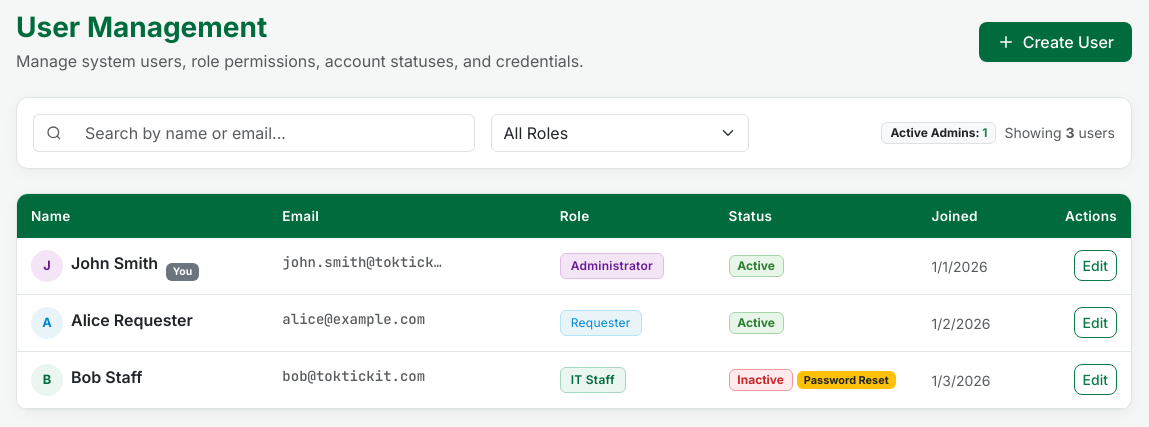
it: UserManagement Component Tests (UI-06, AC-13..16, FR-17..20) › preserves authoritative active admin count when table search or role filters are applied
Expected: the table with test id "users-table" is shown, x1=17 y1=194 x2=1131 y2=409
Expected: the element with test id "active-admins-count-badge" reads "Active Admins: 1", x1=881 y1=122 x2=996 y2=144
# Apply search for Alice (which contains 0 administrators)
Type "Alice" into the field with test id "search-users-input".
click(274, 133); type("Alice")  # box x1=73 y1=114 x2=474 y2=152
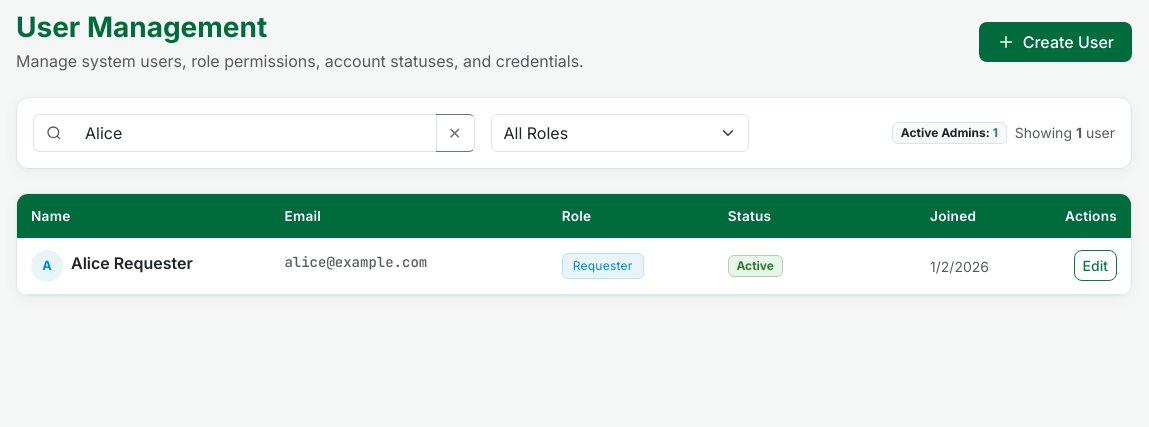
Expected: the element with test id "active-admins-count-badge" reads "Active Admins: 1", x1=892 y1=122 x2=1007 y2=144
Now the text "John Smith" is gone
